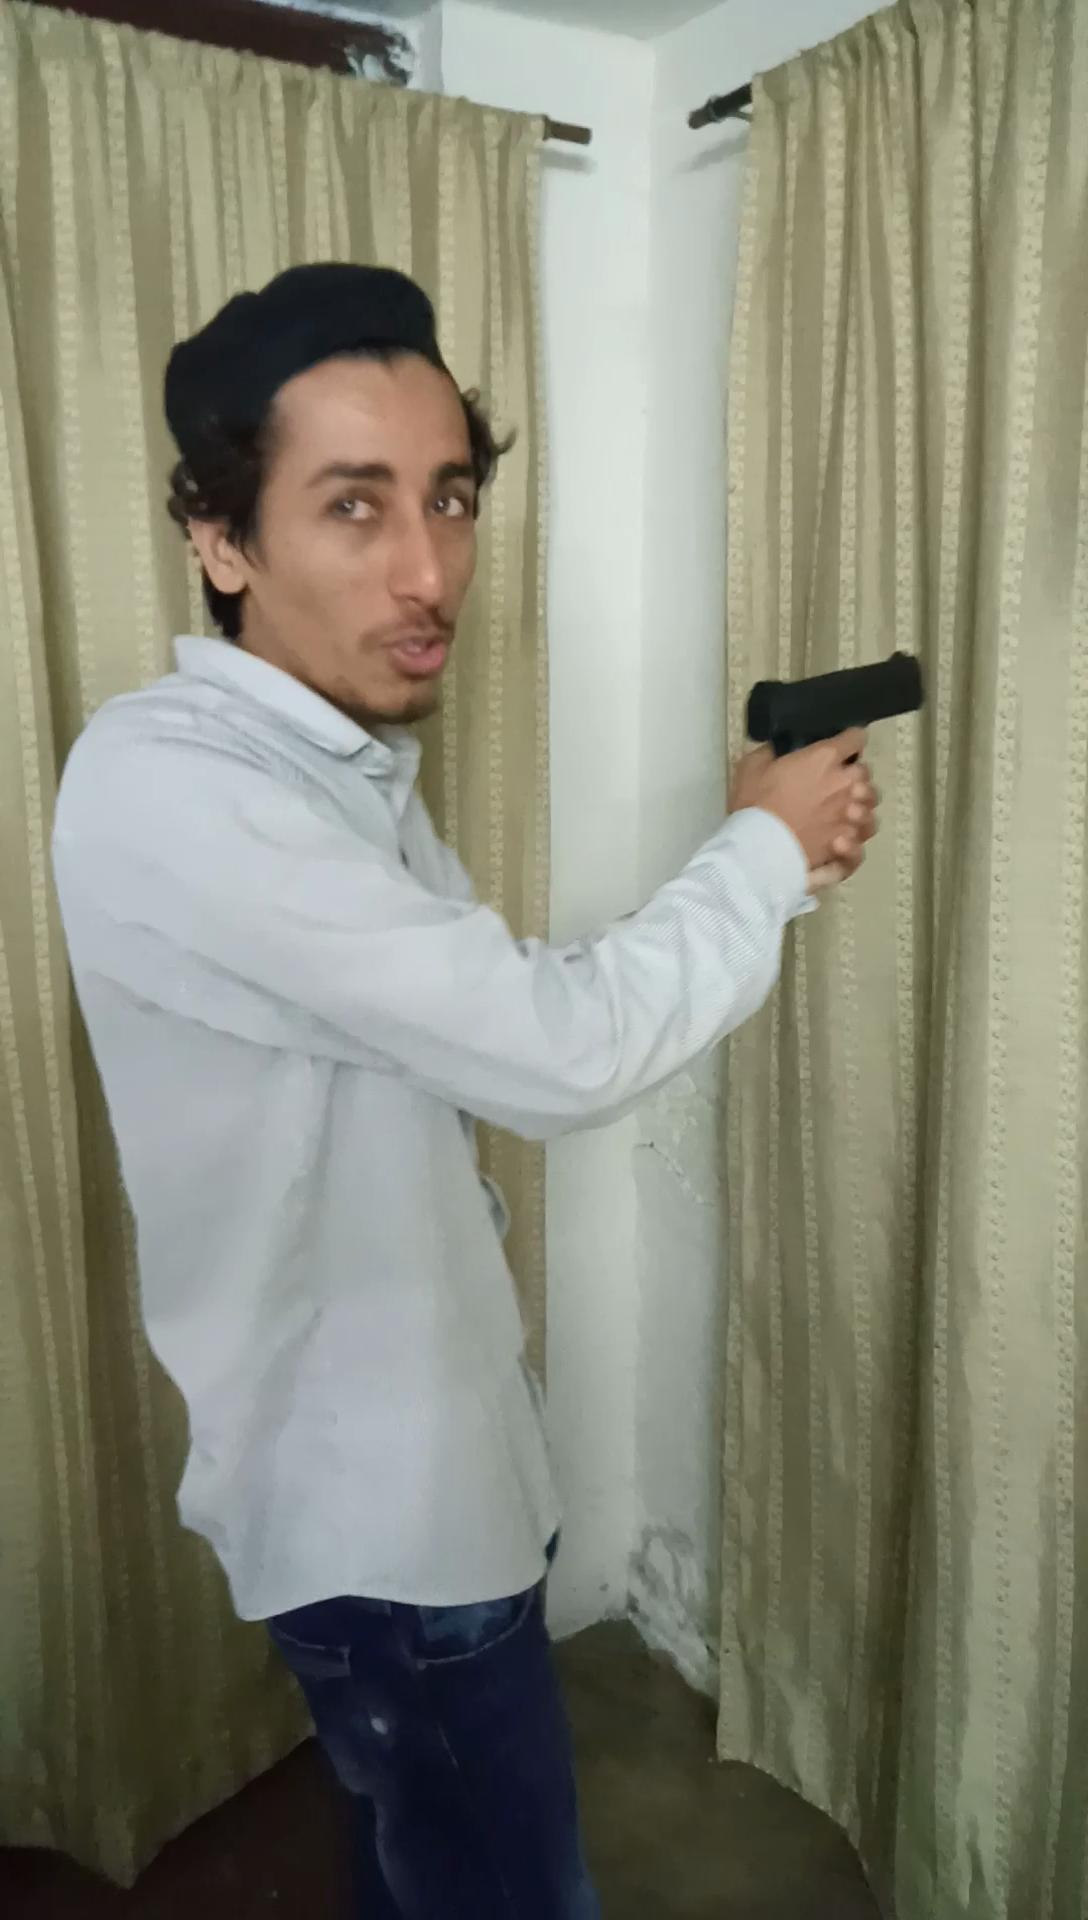criminal: (51, 251, 936, 1920)
weapon: (739, 636, 936, 804)
